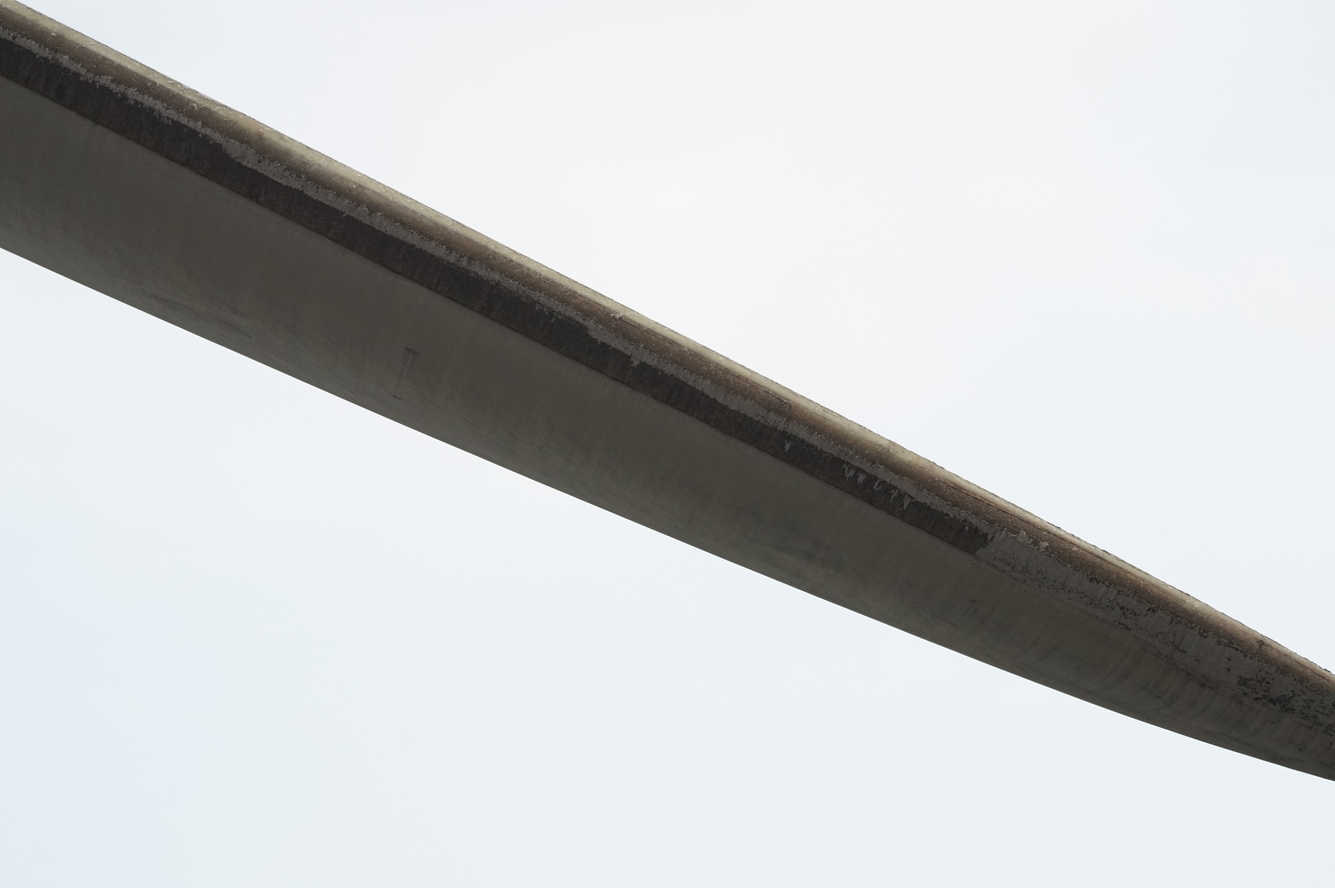Damage: (0, 0, 1335, 694)
